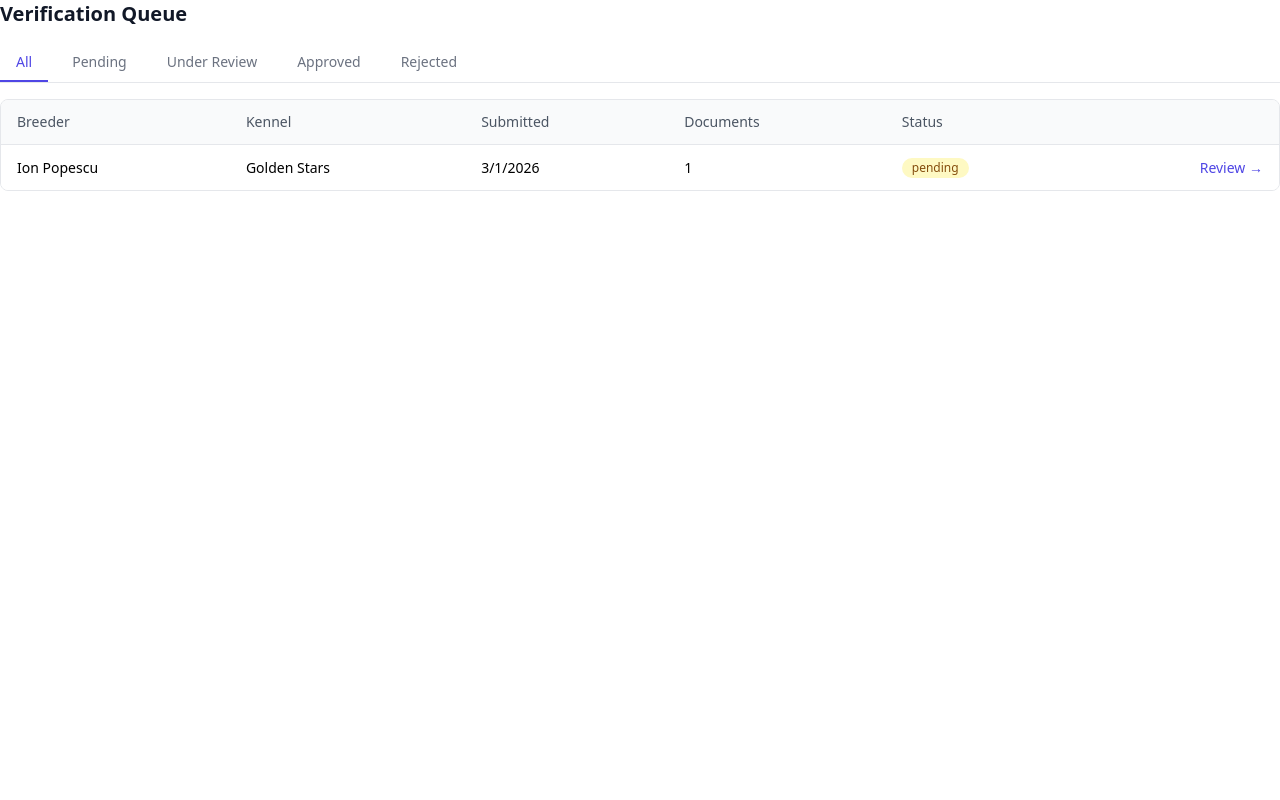
VerificationQueue › "Review" button opens modal for the correct request
Check: the text "Ion Popescu" is shown, box x1=1 y1=144 x2=230 y2=190
# Use the row action button (not the "Under Review" tab filter)
Click the button "Review →" at (1231, 168), box x1=1200 y1=158 x2=1263 y2=178
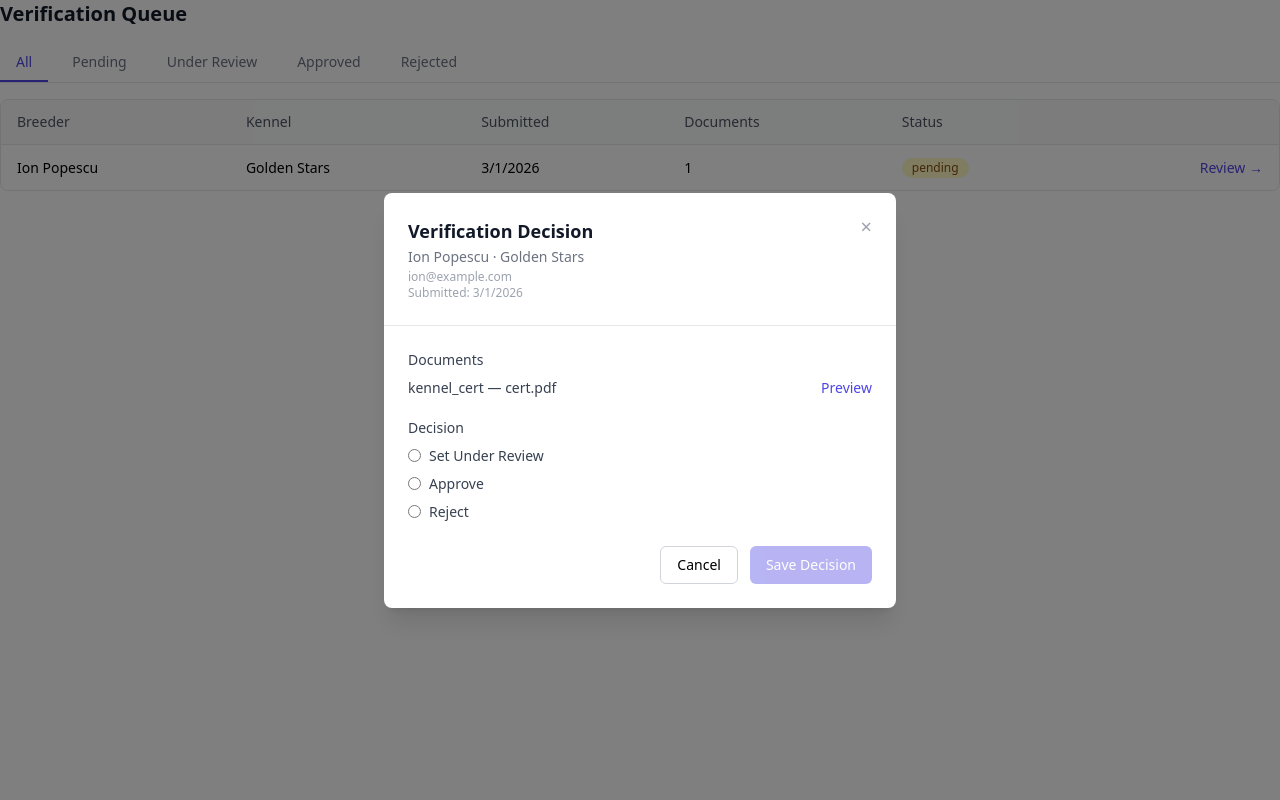
Check: the dialog is shown
Check: the text "ion@example.com" is shown, box x1=408 y1=268 x2=512 y2=284
